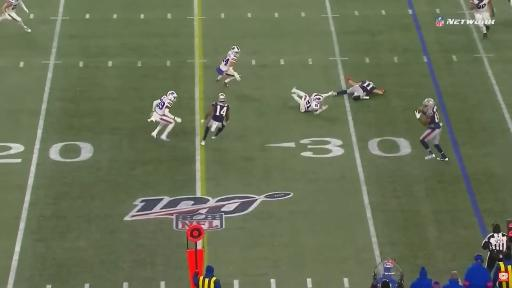Helmet: (423, 99, 435, 110), (167, 91, 177, 101), (312, 94, 323, 103), (231, 46, 240, 55), (219, 94, 225, 102)
Jersey: (219, 51, 237, 71), (212, 102, 229, 123), (426, 106, 441, 129), (155, 96, 172, 115), (471, 0, 489, 13), (305, 96, 320, 111), (359, 81, 375, 94), (7, 0, 20, 11)
Player: (415, 99, 448, 161), (148, 91, 181, 140), (201, 94, 229, 145), (292, 88, 335, 114), (336, 78, 384, 100), (0, 0, 31, 31), (217, 46, 240, 86), (470, 0, 493, 19)
